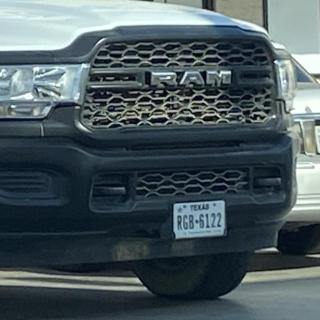license: (174, 201, 227, 241)
